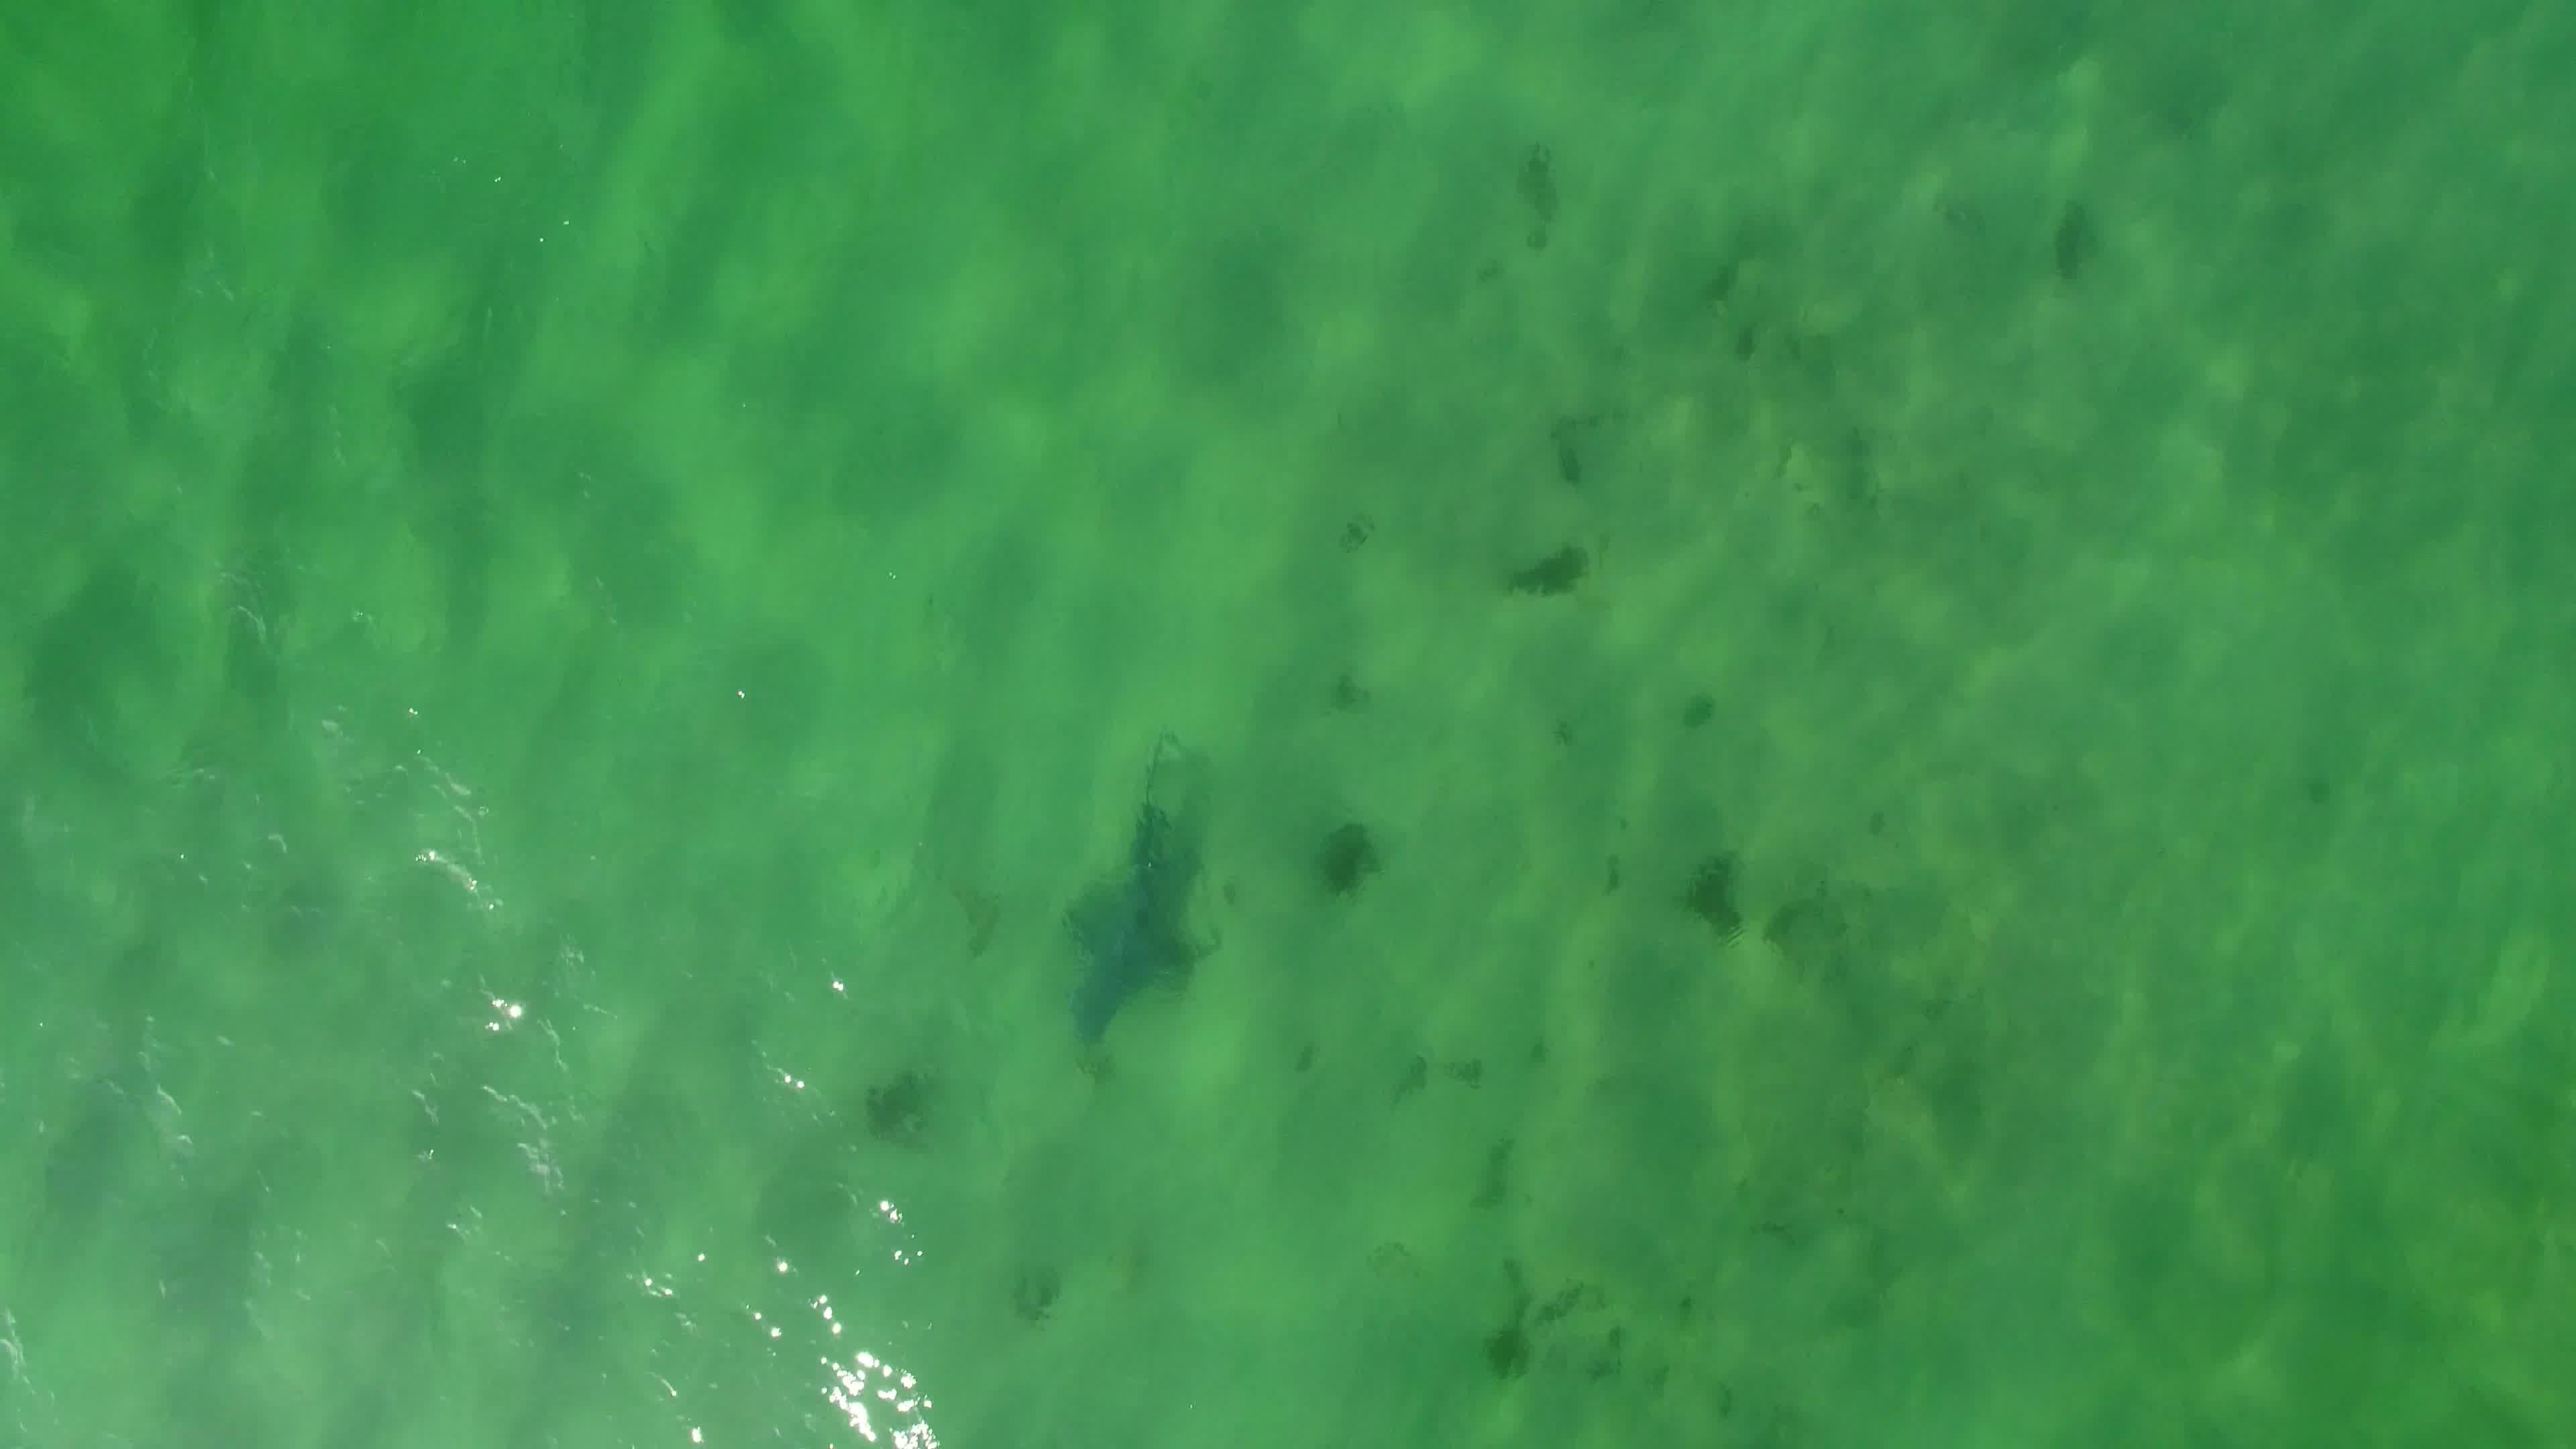shark: (1053, 736, 1205, 1054)
